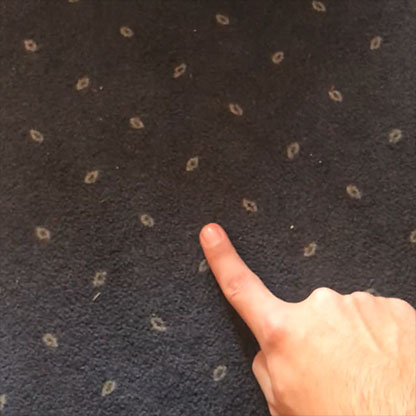fingertip: (189, 218, 231, 258)
